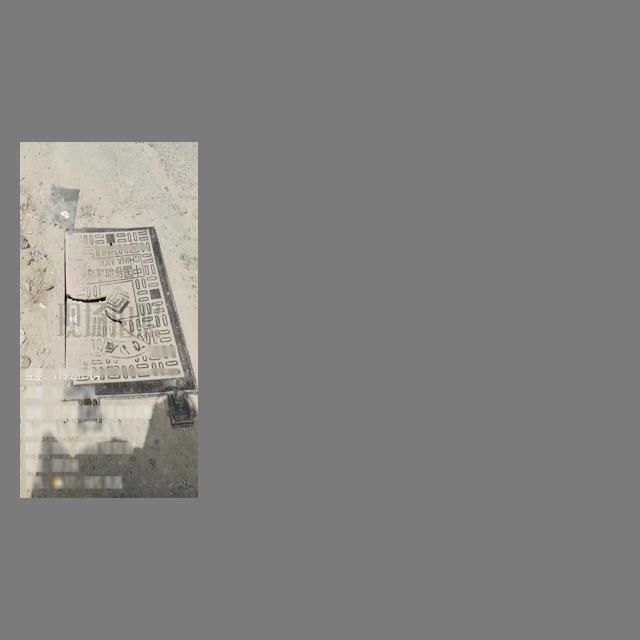broke: (61, 225, 198, 431)
